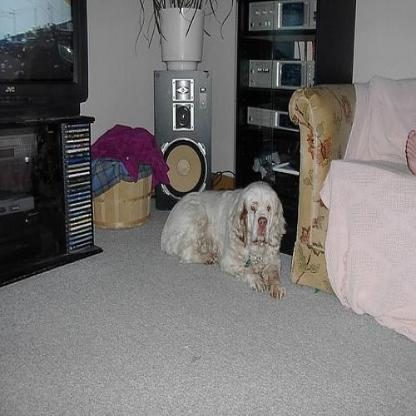clumber: (160, 180, 283, 298)
